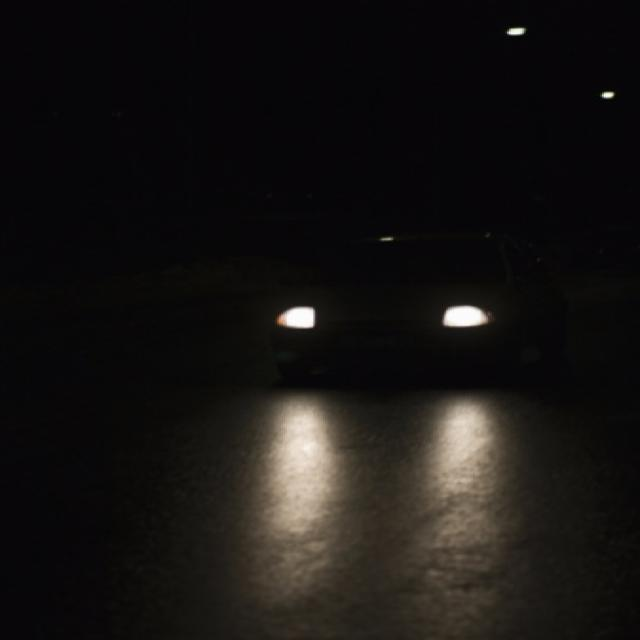Car: (168, 226, 593, 396)
